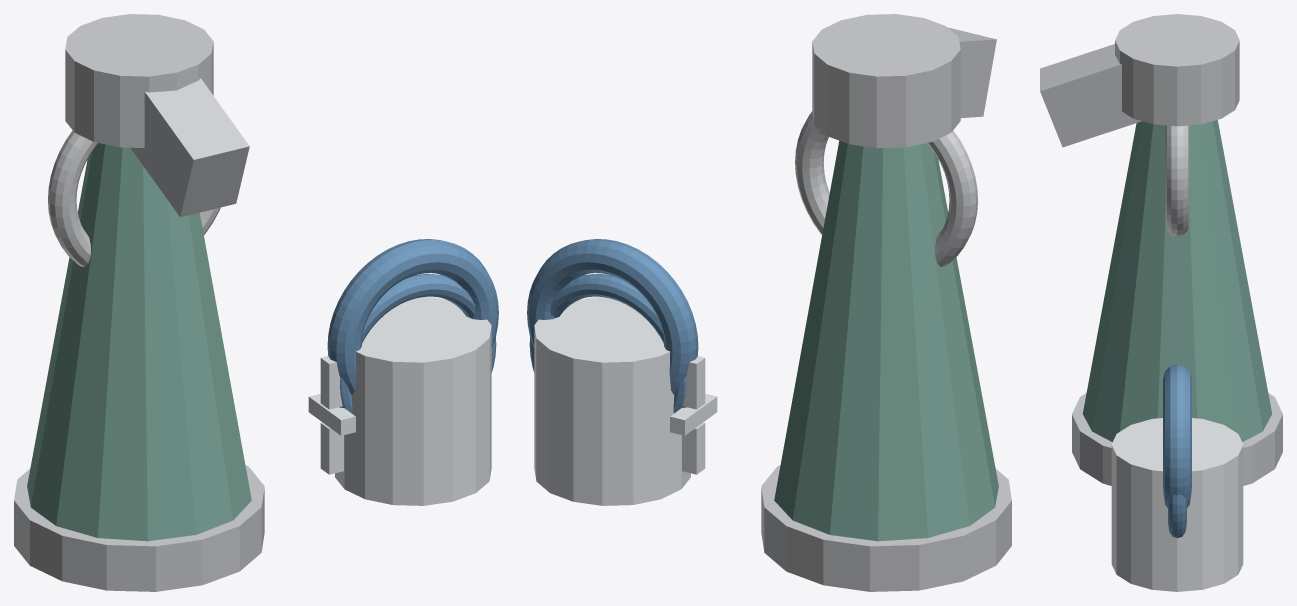
File: enamel_set.glb
3 views of the same model, side by side, from view 1: azimuth 30°, elevation 25°; view 2: azimuth 150°, elevation 25°; view 3: azimuth 270°, elevation 25° (orthographic). The views are drawn at different scales.
Visible parts, largest first — view 1: enamel_set; view 2: enamel_set; view 3: enamel_set.
Part boxes in pixels (box(x1,y1,x2,y2)): enamel_set: box(14, 14, 498, 591); enamel_set: box(527, 14, 1011, 591); enamel_set: box(1040, 14, 1282, 591).
Size of the model in its own units: 0.375 by 0.3795 by 0.2027.
